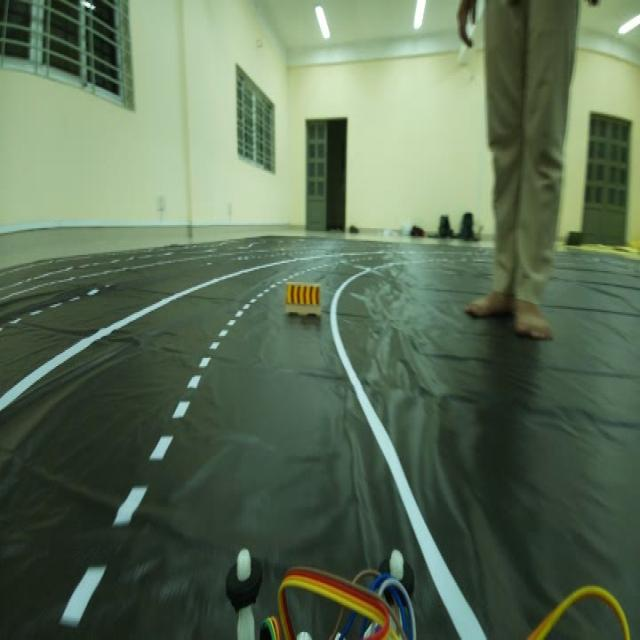roadblock: (286, 267, 326, 319)
